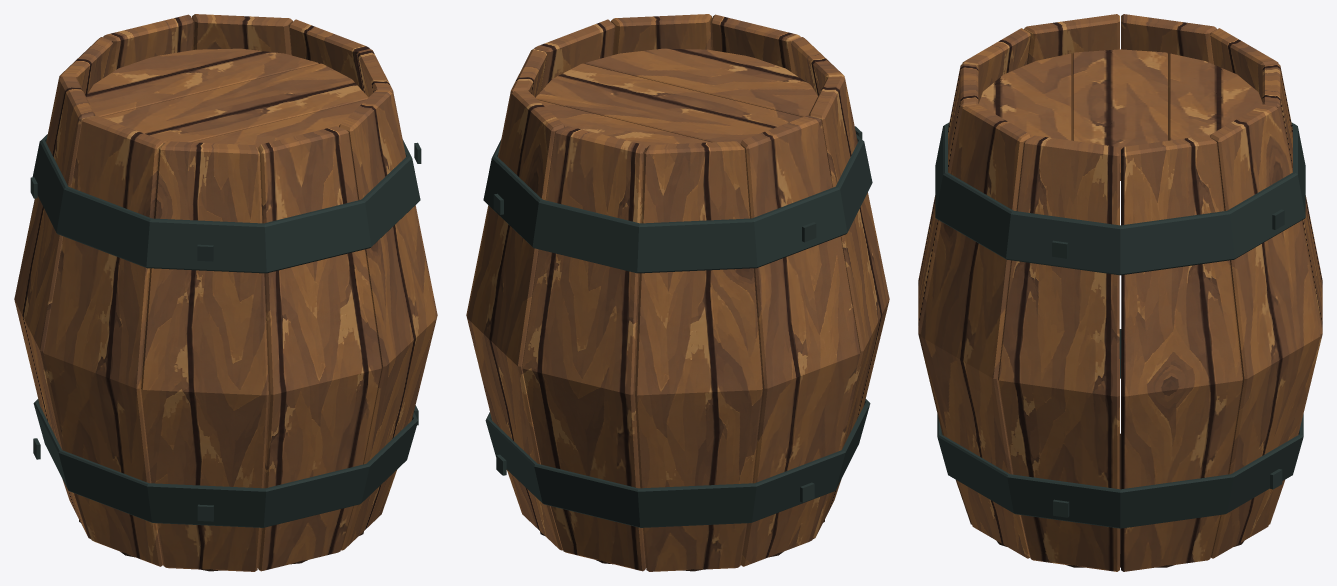
File: aether_barrel_shape_bk.glb
3 renders of one model, left to right at view 1: azimuth 30°, elevation 25°; view 2: azimuth 150°, elevation 25°; view 3: azimuth 270°, elevation 25°, orthographic.
Parts seen in each view (by area): view 1: aether_barrel_shape_bk; view 2: aether_barrel_shape_bk; view 3: aether_barrel_shape_bk.
Boxes of the visible parts, bbox=[...] form: aether_barrel_shape_bk: bbox=[14, 14, 437, 571]; aether_barrel_shape_bk: bbox=[466, 14, 889, 571]; aether_barrel_shape_bk: bbox=[918, 14, 1322, 571].
Bounding box in the file's own units: 0.9583 × 1.06 × 0.9161.
Materials: 2 (1 with a texture image).
